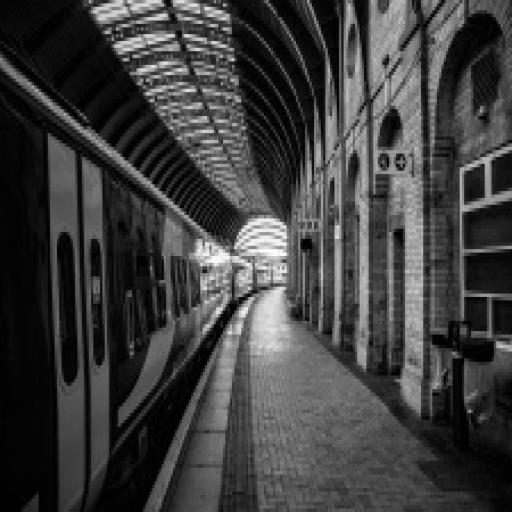platform_edge: (137, 328, 269, 512)
